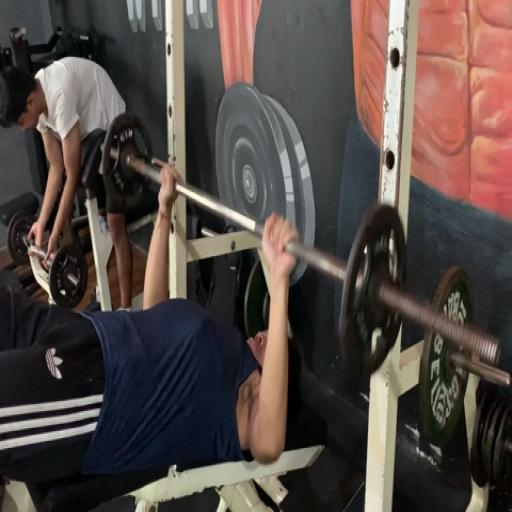exercise: (0, 159, 301, 488), (0, 53, 141, 313)
